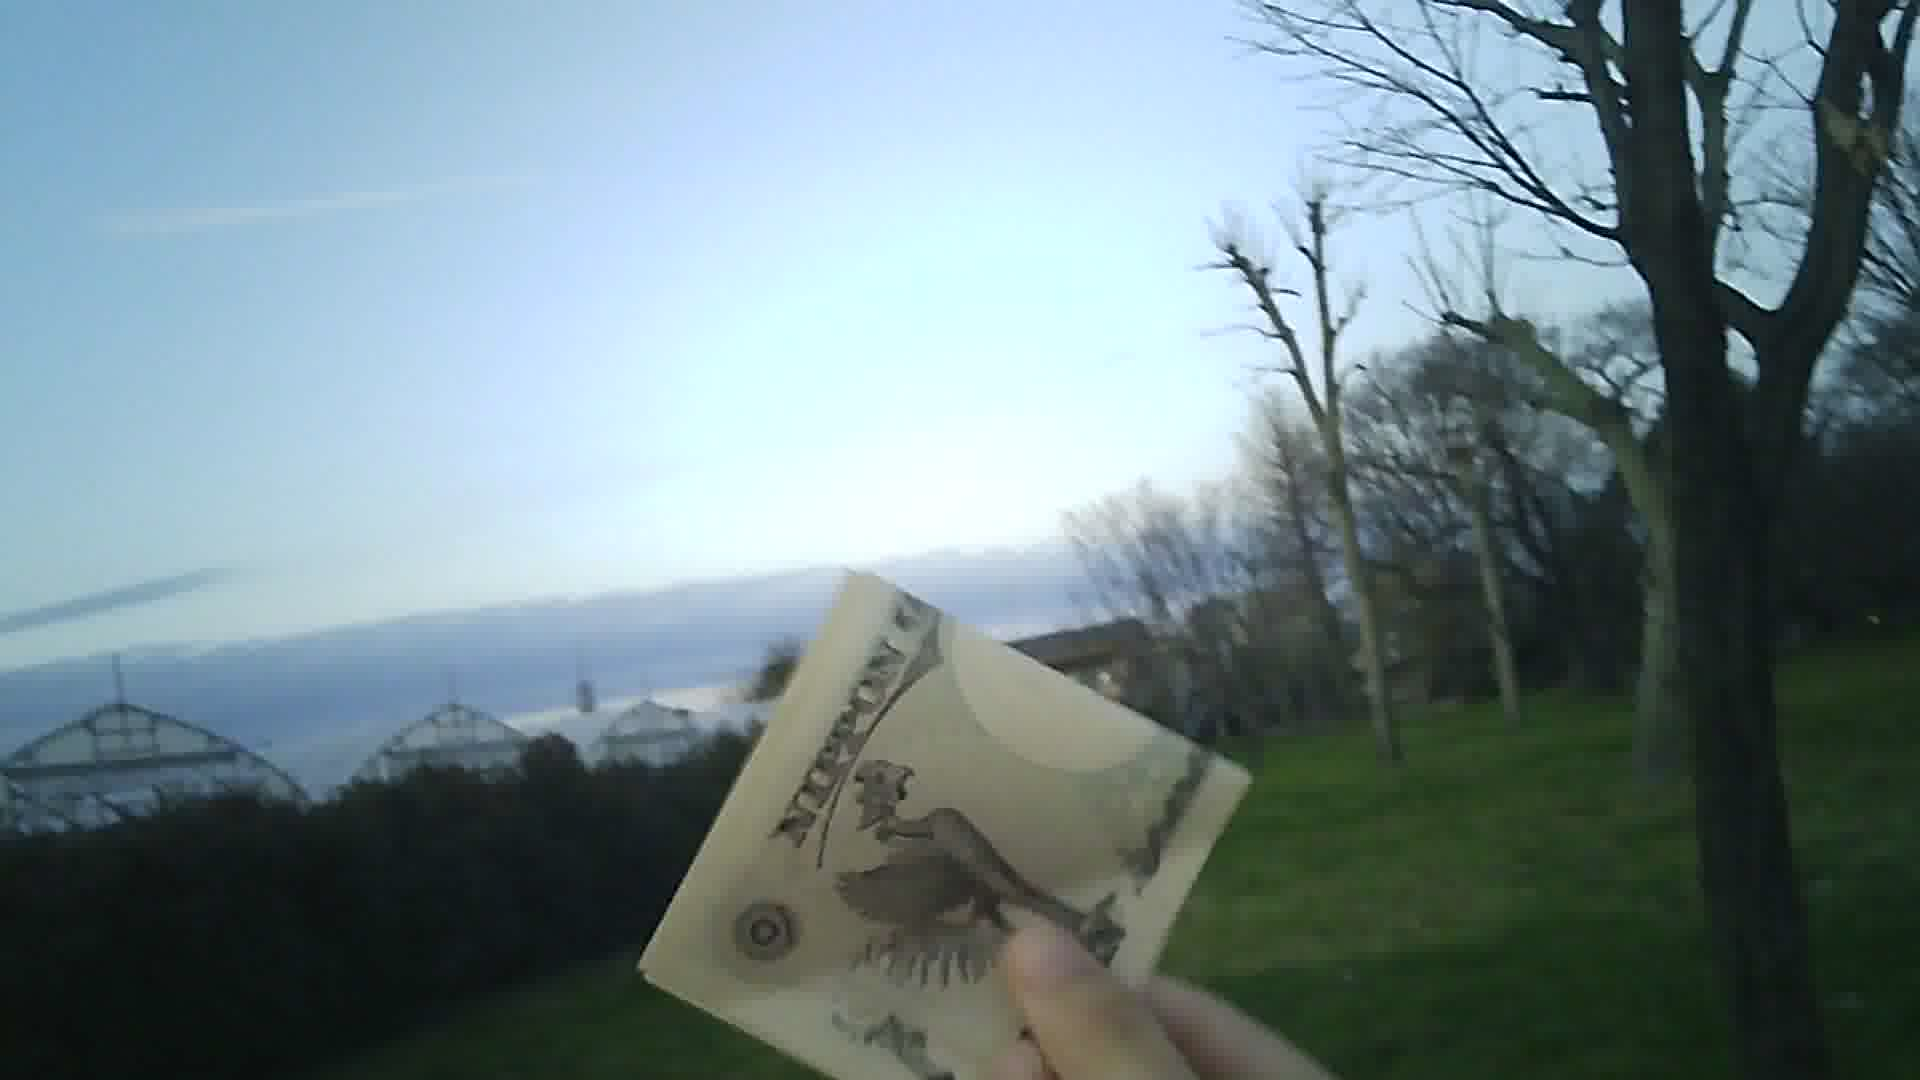10,000 Yen: (620, 555, 1280, 1079)
